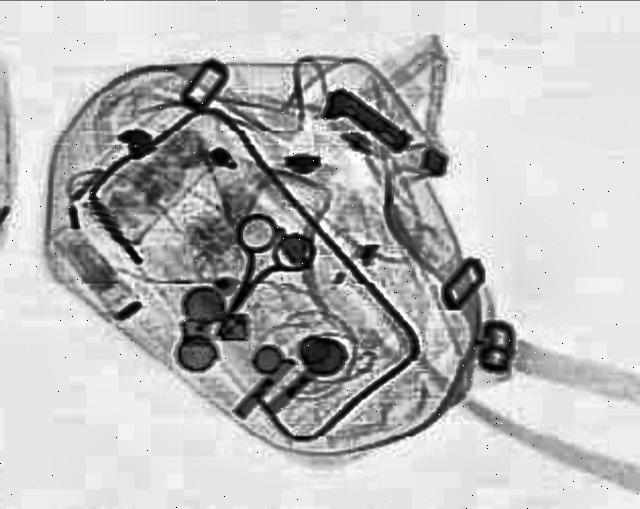Scissors: (186, 206, 332, 332)
